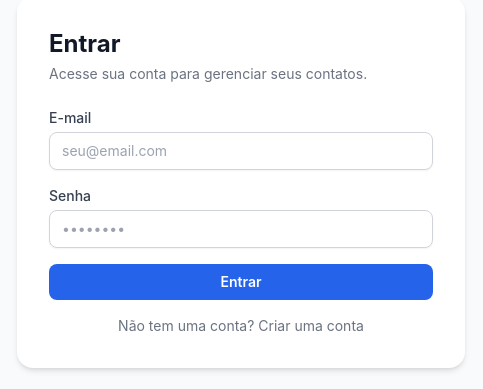
Test case: LoginPage — loading › exibe "Entrando..." durante submit
Type "a@a.com" into the field labelled "E-mail" at (241, 151), box [49,132,433,170]
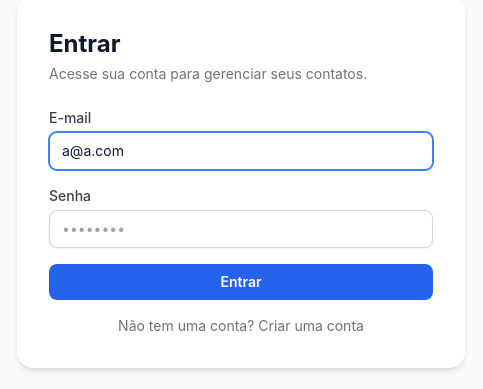
Type "pwd" into the password field labelled "Senha" at (241, 229), box [49,210,433,248]
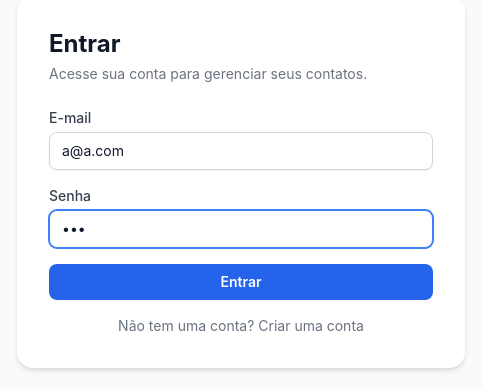
Click the button "Entrar" at (241, 282), box [49,264,433,300]
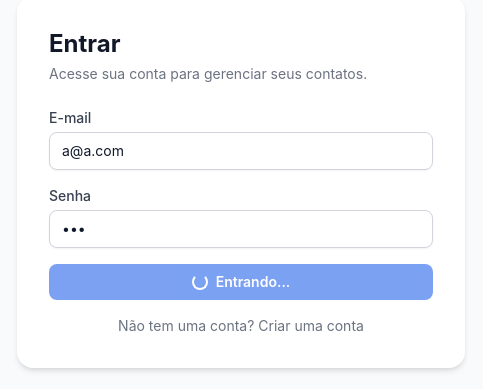
Result: the button "Entrando..." is disabled at [49,264,433,300]
